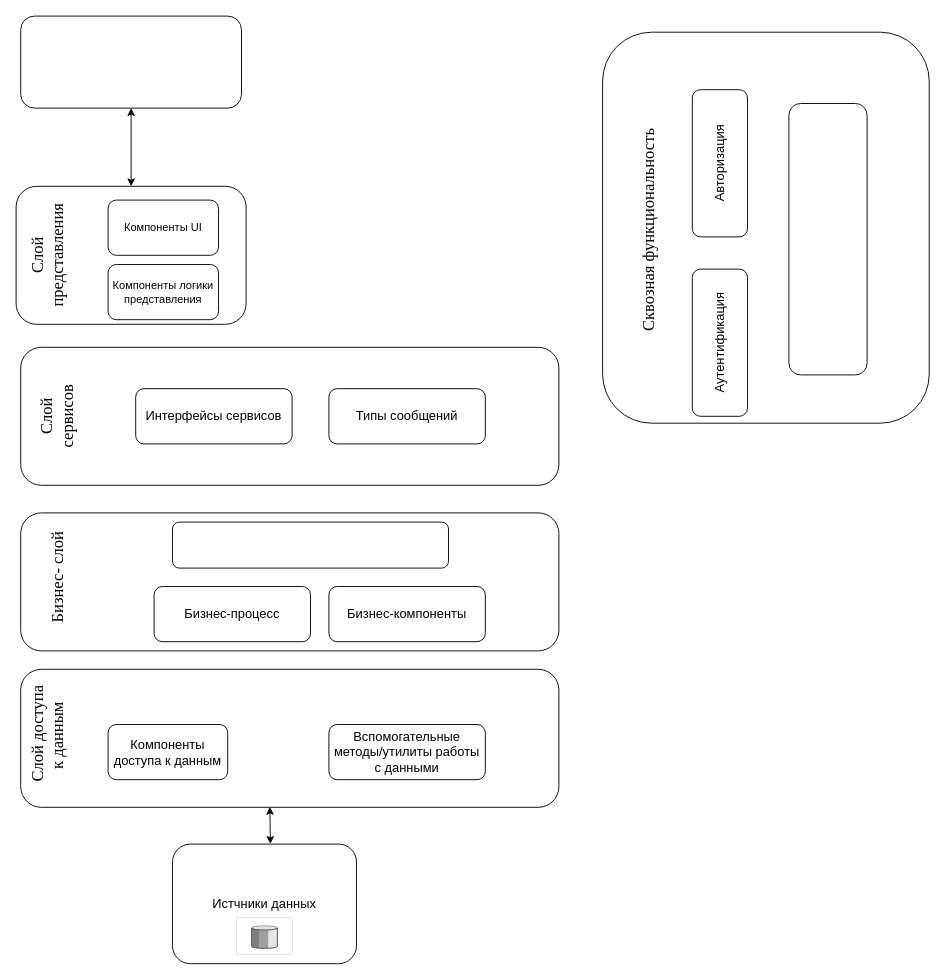
Some shapes in this 946 by 980 pixel diagram are drawn without their labels. The centre of each missing label's shape, as x and y in pixels:
"Пользователи" goes at point 131,61.
"Управление исключениями" goes at point 827,239.
"Фасад приложения" goes at point 310,544.
